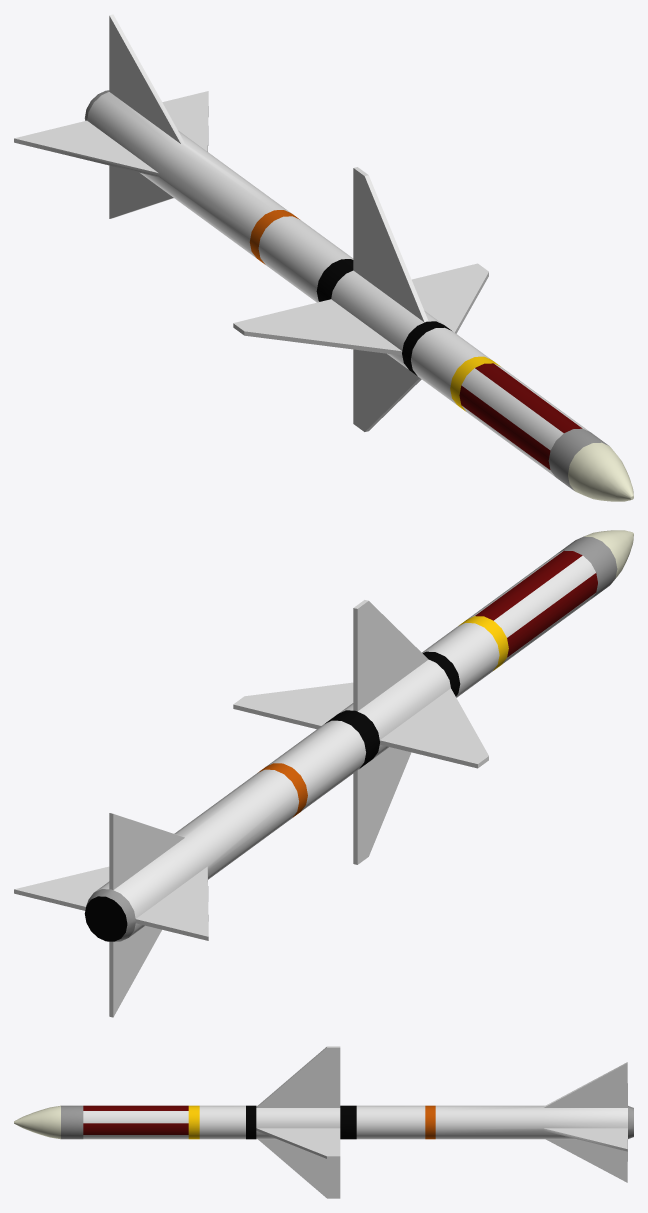
The model's file is AIM-7E.glb.
3 renders of one model, top to bottom at view 1: azimuth 30°, elevation 25°; view 2: azimuth 150°, elevation 25°; view 3: azimuth 270°, elevation 25°, orthographic. The views are drawn at different scales.
Visible parts, largest first — view 1: Body; view 2: Body; view 3: Body.
Part boxes in pixels (<box>): Body: <box>14,14,633,501</box>; Body: <box>14,530,633,1017</box>; Body: <box>14,1046,633,1198</box>.
Size of the model in its own units: 0.9891 by 0.9891 by 3.68.
Materials: 1 (1 with a texture image).
